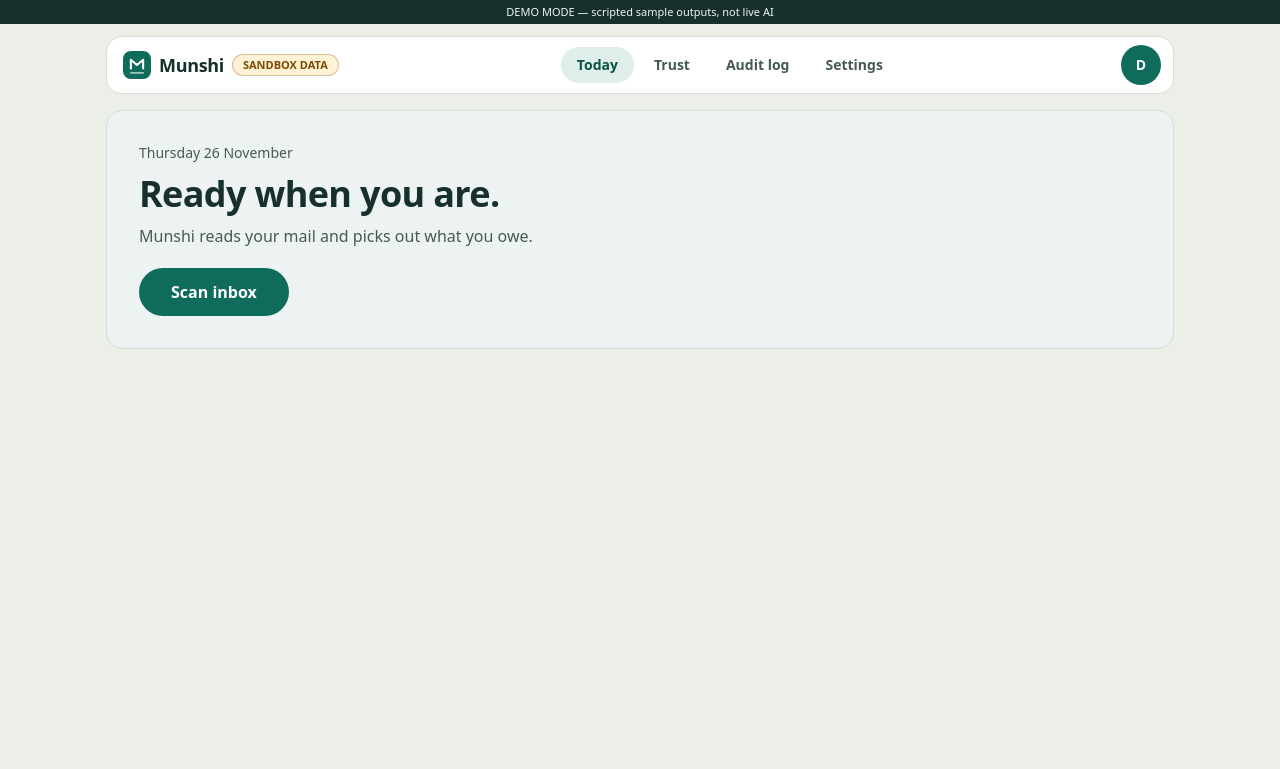
Scenario: settings layout › shows who is signed in, with initials and a status line
The image size is (1280, 769).
Click the button "Settings" at coordinates (854, 65), box [810, 47, 899, 83]
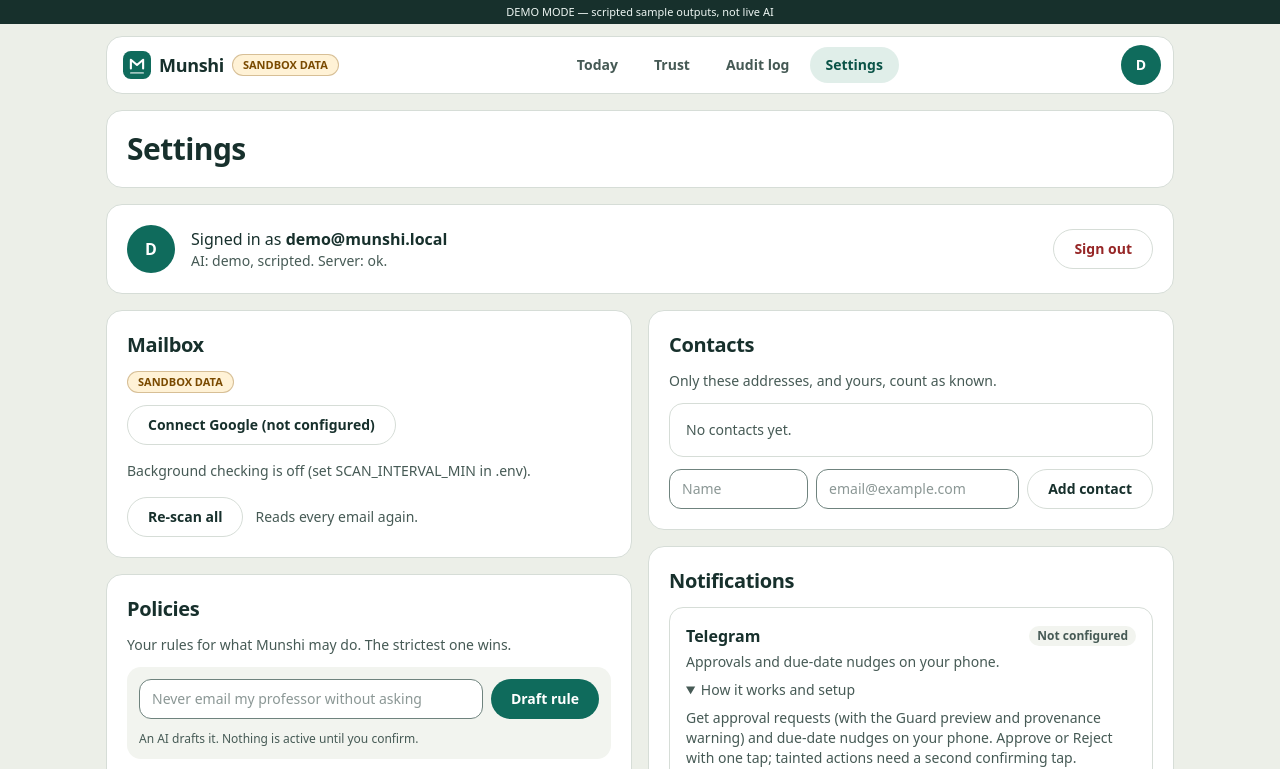
Result: the element named "Account" shows "Signed in as demo@munshi.local" at [106, 204, 1174, 294]
Result: the element named "Account" shows "AI: demo, scripted. Server: ok." at [106, 204, 1174, 294]
Result: the text "D" is shown at [127, 225, 175, 273]
